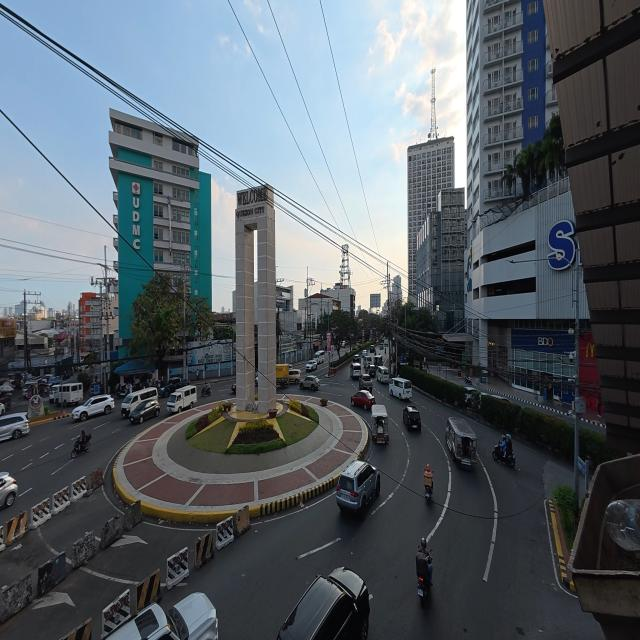Jeepneys: (446, 417, 477, 467), (372, 405, 388, 443), (374, 355, 383, 366)
car: (278, 568, 369, 639), (109, 593, 218, 639), (337, 461, 380, 517), (72, 395, 114, 421), (129, 398, 161, 424), (0, 413, 29, 440), (0, 472, 17, 507), (160, 377, 188, 397), (351, 390, 375, 409), (403, 406, 421, 431), (300, 375, 319, 390), (465, 387, 478, 406), (359, 374, 372, 391), (305, 359, 318, 372), (369, 365, 376, 377), (369, 344, 376, 354), (0, 403, 5, 415), (353, 355, 360, 363), (255, 372, 259, 385), (231, 384, 236, 394), (340, 340, 346, 348), (362, 349, 367, 358)
motorcycle: (493, 444, 515, 468), (72, 434, 91, 459), (418, 575, 430, 606), (425, 480, 432, 504), (117, 386, 128, 398), (0, 397, 11, 409), (425, 486, 432, 504), (200, 387, 211, 397), (465, 375, 472, 384)
trucks: (276, 365, 289, 386)
vans: (121, 387, 158, 417), (167, 386, 197, 412), (60, 383, 83, 406), (389, 378, 412, 399), (23, 379, 39, 397), (49, 385, 61, 404), (376, 366, 389, 383), (351, 363, 361, 378), (364, 355, 373, 371), (314, 351, 325, 364)
